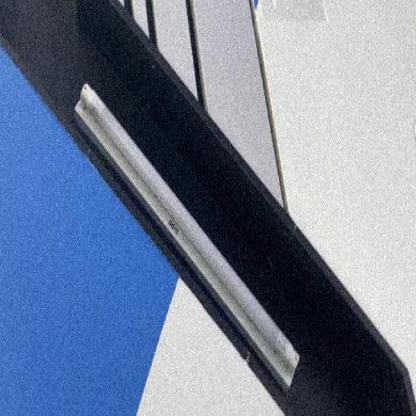light_off: (67, 70, 305, 404)
